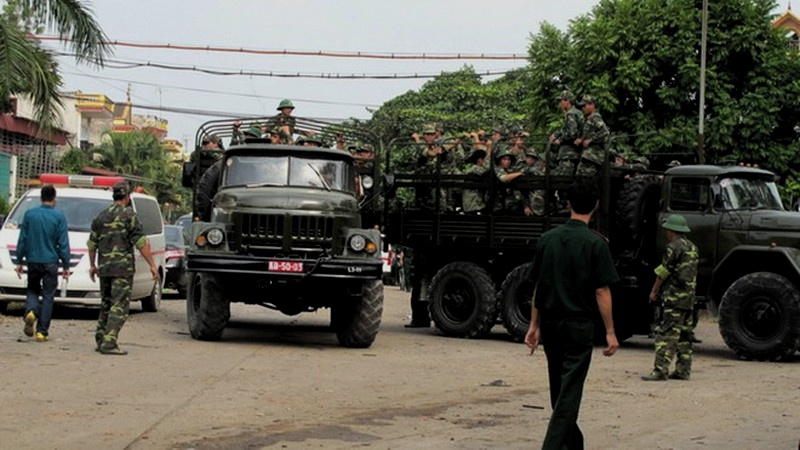plate: (268, 255, 306, 278)
